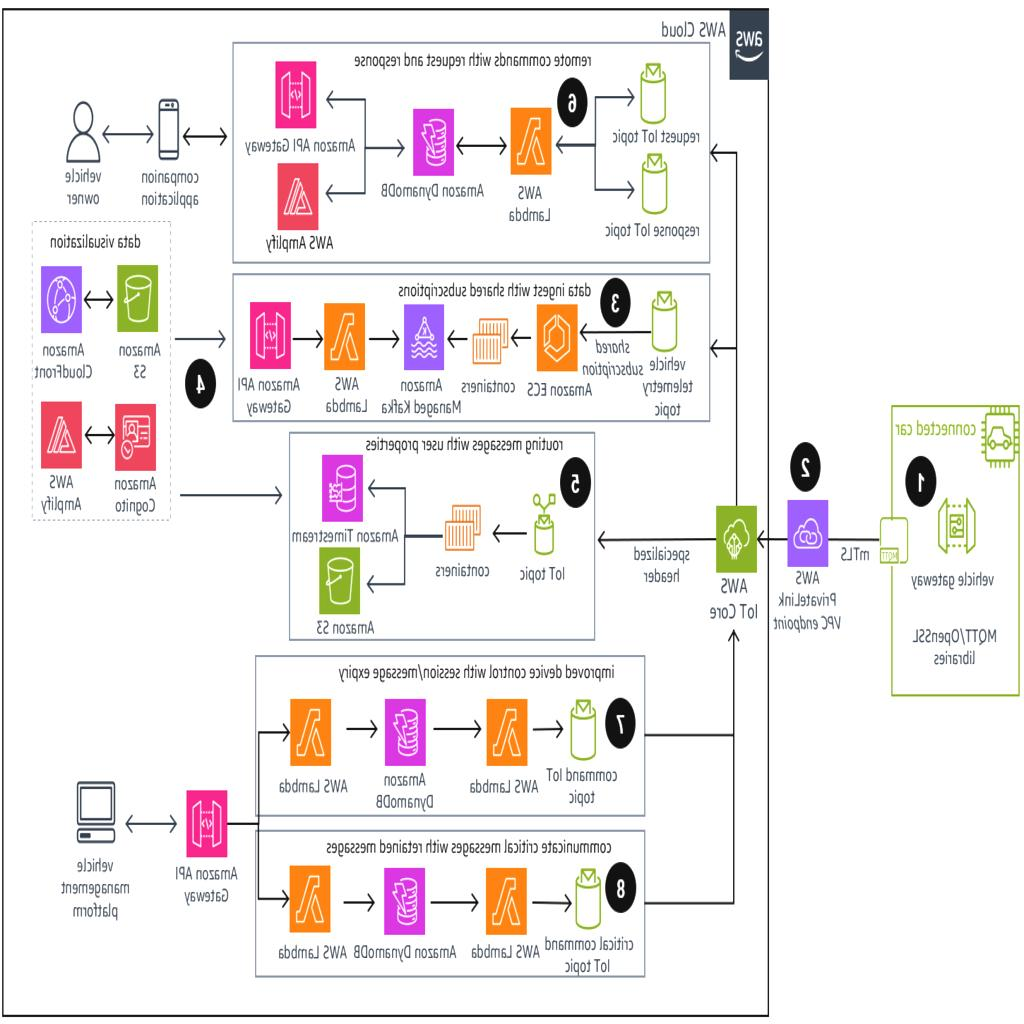actor: (75, 780, 118, 848), (64, 100, 108, 166), (148, 100, 190, 166)
api_gateway: (253, 300, 296, 366), (42, 402, 85, 468), (276, 77, 318, 144), (276, 161, 318, 228), (186, 788, 228, 854)
compute: (536, 300, 580, 366), (510, 108, 553, 175), (716, 501, 759, 568), (291, 702, 334, 768), (291, 868, 334, 934), (322, 300, 364, 366), (486, 702, 528, 768), (486, 868, 528, 934)
data_flow: (735, 540, 740, 930), (735, 162, 740, 530), (735, 819, 740, 983), (602, 532, 713, 537), (180, 489, 270, 494), (127, 818, 180, 824), (338, 732, 384, 738), (338, 898, 384, 904), (106, 130, 150, 136), (836, 532, 888, 537), (178, 330, 221, 336), (356, 85, 361, 136), (356, 169, 361, 220), (456, 139, 505, 144), (530, 732, 570, 738), (246, 732, 286, 738), (530, 898, 570, 904), (246, 898, 286, 904), (597, 970, 636, 976), (597, 388, 636, 394), (588, 139, 631, 144), (588, 192, 631, 197), (362, 139, 402, 144), (603, 330, 636, 336), (368, 330, 400, 336), (85, 296, 116, 302), (85, 432, 116, 438), (192, 130, 222, 136), (448, 732, 478, 738), (448, 898, 478, 904), (496, 532, 528, 537), (410, 532, 442, 537), (448, 330, 474, 336), (296, 330, 322, 336), (735, 136, 740, 167), (385, 504, 410, 510), (385, 560, 410, 566), (510, 330, 534, 336), (764, 532, 788, 537)
database_storage: (404, 300, 448, 366), (116, 266, 160, 332), (388, 702, 431, 768), (388, 868, 431, 934), (42, 266, 85, 332), (408, 108, 450, 175), (322, 456, 364, 523), (322, 545, 364, 612)
network_security: (786, 501, 830, 568), (116, 402, 160, 468)
trust_boundary: (82, 16, 770, 1008), (232, 37, 712, 266), (232, 274, 712, 418), (288, 430, 596, 640), (256, 653, 645, 817), (256, 824, 645, 978), (37, 216, 172, 517), (892, 404, 1020, 694)
